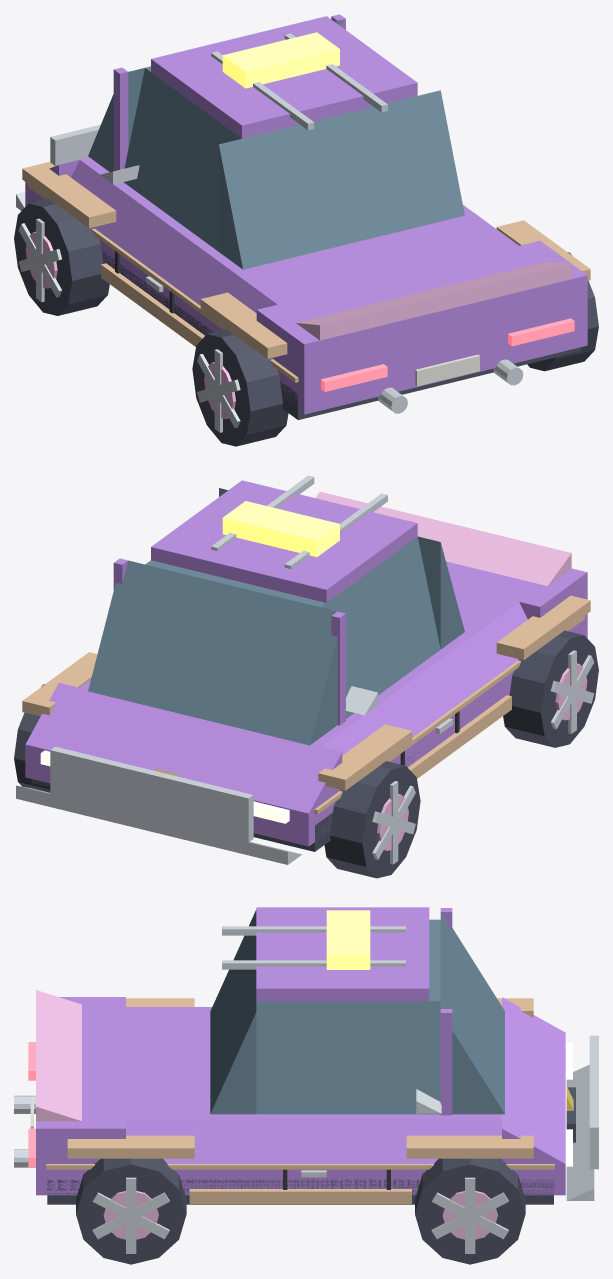
The model's file is street_sweeper.glb.
The picture shows the model from 3 angles, top to bottom: view 1: azimuth 30°, elevation 25°; view 2: azimuth 150°, elevation 25°; view 3: azimuth 270°, elevation 25°; orthographic projection. The views are drawn at different scales.
Visible parts, largest first — view 1: RearWindow.144, Tail.044, Roof.244, BodyUpper.041, CabinSideL.041, Body.244, ShoulderL.041, Ducktail.031, Wheel_RL.204, Wheel_FL.204, TaxiLight.013, Arch-1False.120 (+17 smaller); view 2: Windshield.144, Nose.041, Roof.244, CabinSideL.041, Bullbar.021, ShoulderL.041, Wheel_FL.204, Wheel_RL.204, Ducktail.031, Body.244, TaxiLight.013, Bumper.240 (+21 smaller); view 3: CabinSideR.041, ShoulderR.041, Roof.244, BodyUpper.041, Windshield.144, Nose.041, Tail.044, Body.244, RearWindow.144, Wheel_FR.204, Wheel_RR.204, Ducktail.031 (+22 smaller).
Boxes of the visible parts, bbox=[...] form: RearWindow.144: bbox=[219, 90, 464, 269]; Tail.044: bbox=[256, 240, 587, 381]; Roof.244: bbox=[151, 16, 417, 138]; BodyUpper.041: bbox=[80, 157, 518, 304]; CabinSideL.041: bbox=[123, 68, 241, 251]; Body.244: bbox=[25, 182, 587, 414]; ShoulderL.041: bbox=[71, 160, 277, 312]; Ducktail.031: bbox=[296, 261, 571, 340]; Wheel_RL.204: bbox=[192, 329, 288, 446]; Wheel_FL.204: bbox=[14, 198, 109, 315]; TaxiLight.013: bbox=[222, 32, 339, 88]; Arch-1False.120: bbox=[22, 162, 116, 228]; Windshield.144: bbox=[88, 560, 337, 745]; Nose.041: bbox=[25, 682, 342, 813]; Roof.244: bbox=[151, 480, 417, 602]; CabinSideL.041: bbox=[321, 536, 440, 718]; Bullbar.021: bbox=[50, 746, 253, 842]; ShoulderL.041: bbox=[321, 602, 527, 755]; Wheel_FL.204: bbox=[324, 761, 420, 878]; Wheel_RL.204: bbox=[503, 630, 598, 747]; Ducktail.031: bbox=[315, 491, 571, 585]; Body.244: bbox=[25, 614, 587, 846]; TaxiLight.013: bbox=[222, 501, 339, 556]; Bumper.240: bbox=[16, 785, 301, 864]; CabinSideR.041: bbox=[256, 1001, 440, 1114]; ShoulderR.041: bbox=[126, 1118, 501, 1163]; Roof.244: bbox=[256, 907, 429, 1001]; BodyUpper.041: bbox=[126, 1007, 501, 1118]; Windshield.144: bbox=[440, 912, 504, 1114]; Nose.041: bbox=[502, 997, 565, 1163]; Tail.044: bbox=[36, 997, 125, 1163]; Body.244: bbox=[36, 1164, 565, 1195]; RearWindow.144: bbox=[210, 910, 256, 1114]; Wheel_FR.204: bbox=[415, 1158, 525, 1264]; Wheel_RR.204: bbox=[76, 1158, 186, 1264]; Ducktail.031: bbox=[36, 990, 81, 1121].
Bounding box in the file's own units: 3.4 × 2.41 × 5.08.
